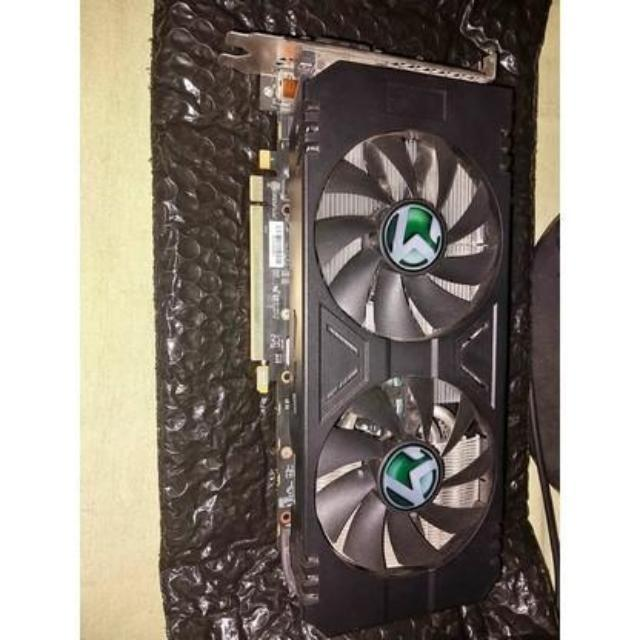GPU: (246, 31, 508, 626)
